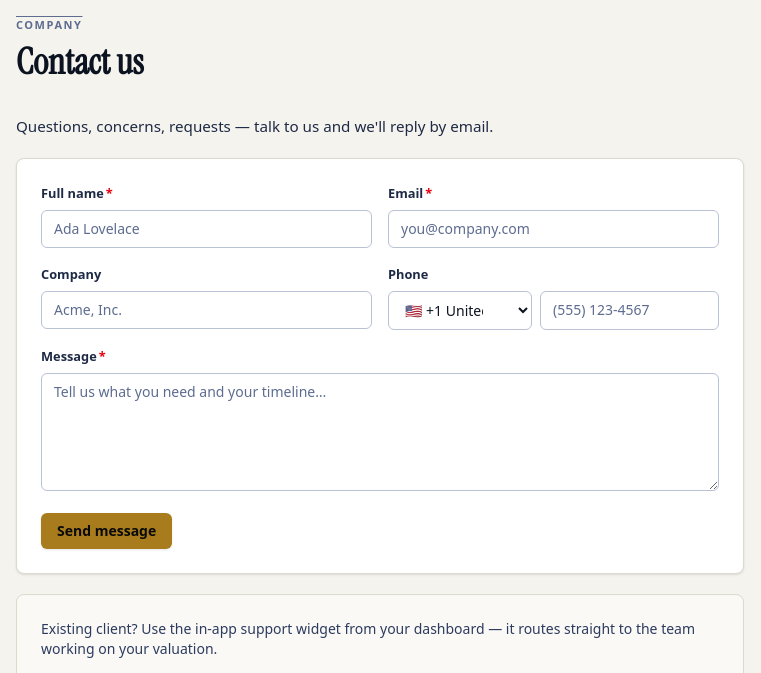
Test: contact form (gap #28) › leaves the optional phone box optional
The image size is (761, 673).
Type "Ada" into the field labelled "Full name" at {"x": 206, "y": 229}, box [41, 210, 372, 248]
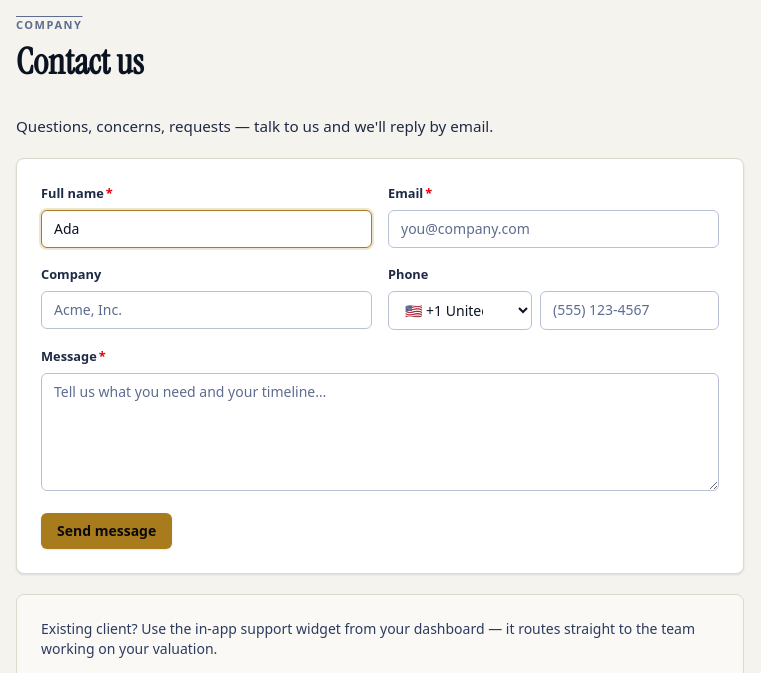
Type "ada@x.example" into the field labelled "Email" at {"x": 554, "y": 229}, box [388, 210, 719, 248]
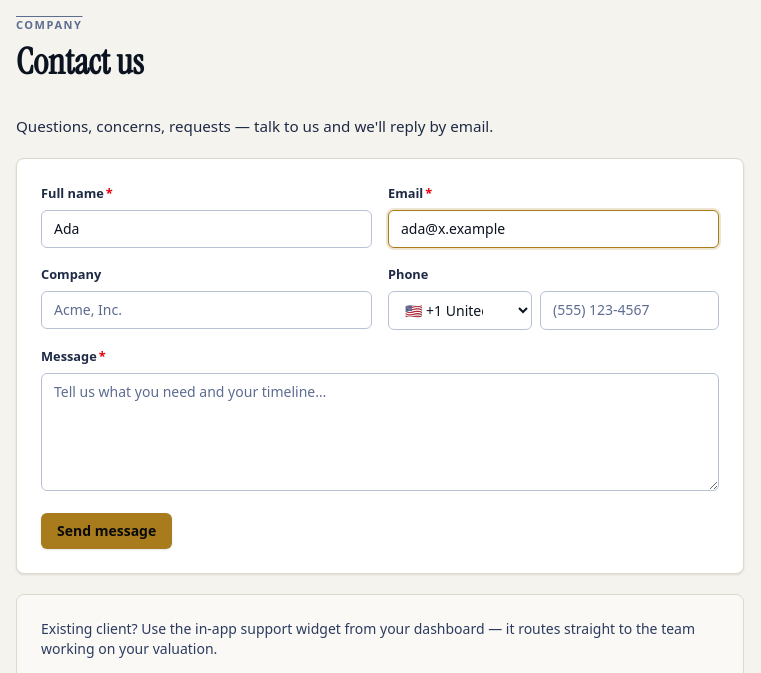
Type "Hello" into the text box labelled "Message" at {"x": 380, "y": 432}, box [41, 372, 719, 490]
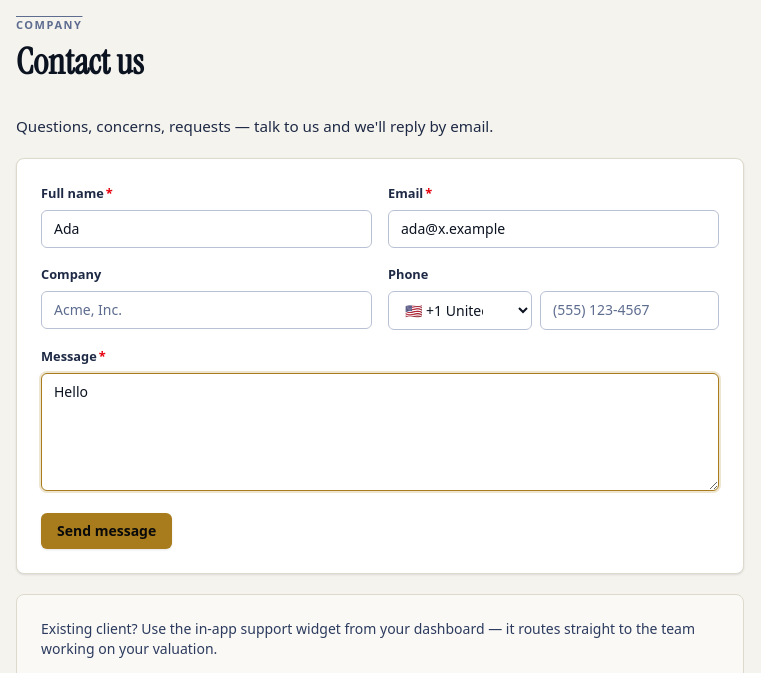
Click the button "Send message" at {"x": 107, "y": 531}, box [41, 513, 172, 549]
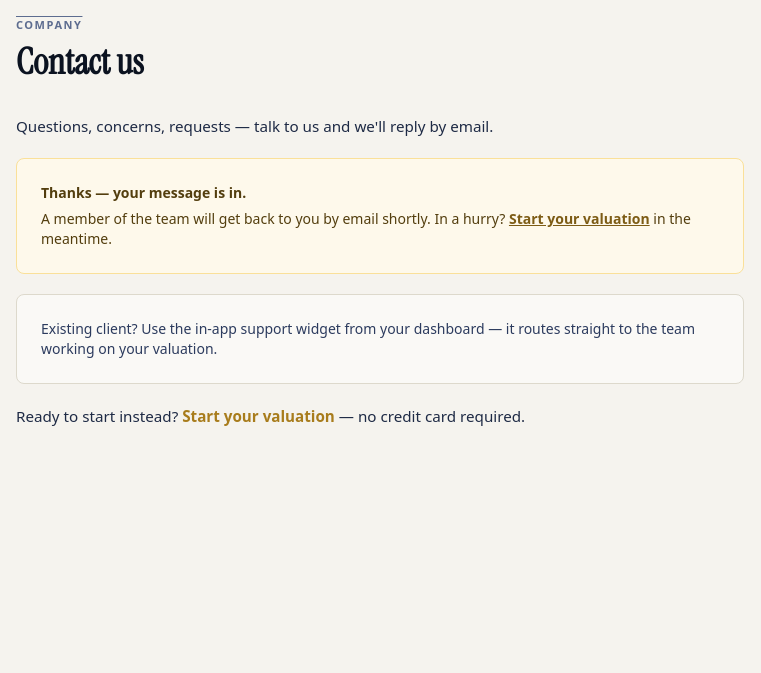
Now the text "Thanks — your message is in." is shown, box [41, 183, 246, 202]
